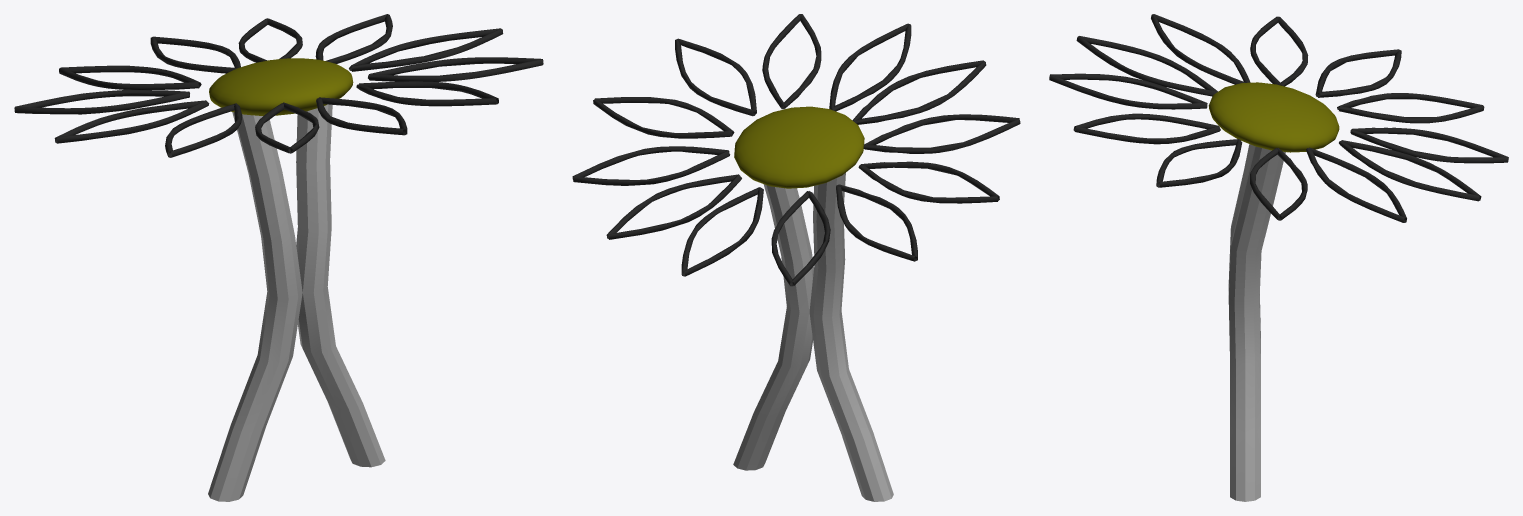
File: Flower.fbx
3 renders of one model, left to right at view 1: azimuth 30°, elevation 25°; view 2: azimuth 150°, elevation 25°; view 3: azimuth 270°, elevation 25°, orthographic. The views are drawn at different scales.
Visible parts, largest first — view 1: extrudedSurface14; view 2: extrudedSurface14; view 3: extrudedSurface14.
Boxes of the visible parts, left/top/right/bottom form: extrudedSurface14: left=14, top=14, right=543, bottom=501; extrudedSurface14: left=572, top=14, right=1020, bottom=501; extrudedSurface14: left=1049, top=14, right=1508, bottom=501.
Bounding box in the file's own units: 5.94 × 5.41 × 5.8.
